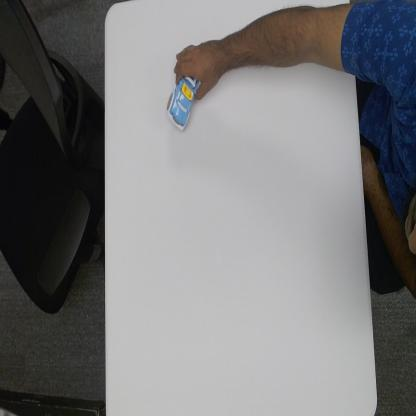Arm: (225, 1, 353, 82)
Car: (166, 74, 199, 132)
Hand: (173, 38, 223, 101)
